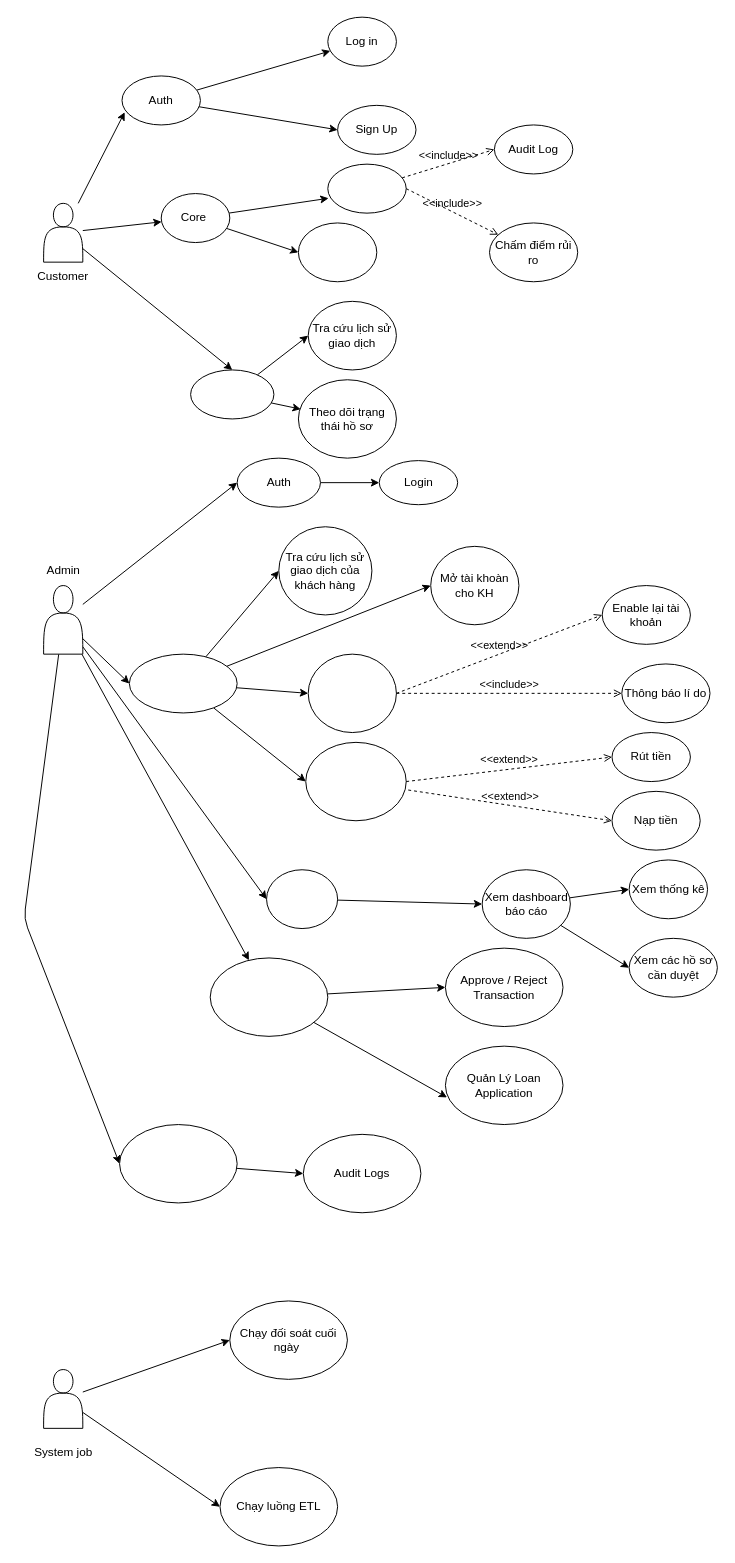
The diagram is 735 pixels wide and 1563 high, and some of its shapes have lost their labels. The shapes that lost their labels are listed below. From the top down, each one's box as (x1, y1, x2, y2) in pixels, then its label:
(327, 163, 406, 213): Transaction
(297, 222, 377, 282): Loan Application
(190, 369, 274, 419): Self-Services
(128, 653, 237, 713): Administration
(307, 653, 396, 733): Disable tài khoản của khách hàng
(305, 741, 406, 821): Thay đổi số dư tài khoản của KH
(266, 869, 338, 929): Monitoring
(209, 957, 328, 1036): Cases Management
(119, 1124, 237, 1203): Compliance
